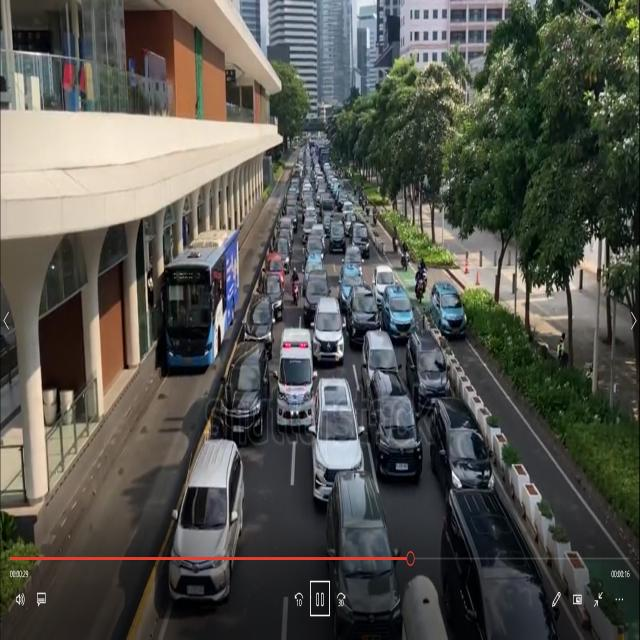Ambulance: (279, 308, 317, 436)
